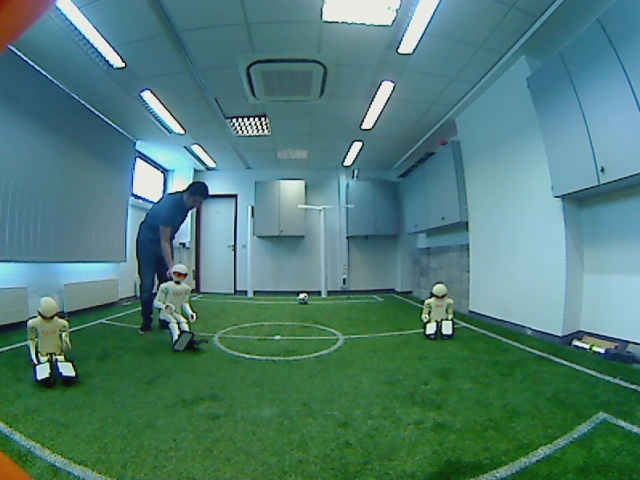ball: (292, 288, 313, 310)
robot: (21, 288, 82, 392), (150, 260, 203, 359), (417, 279, 461, 340)
